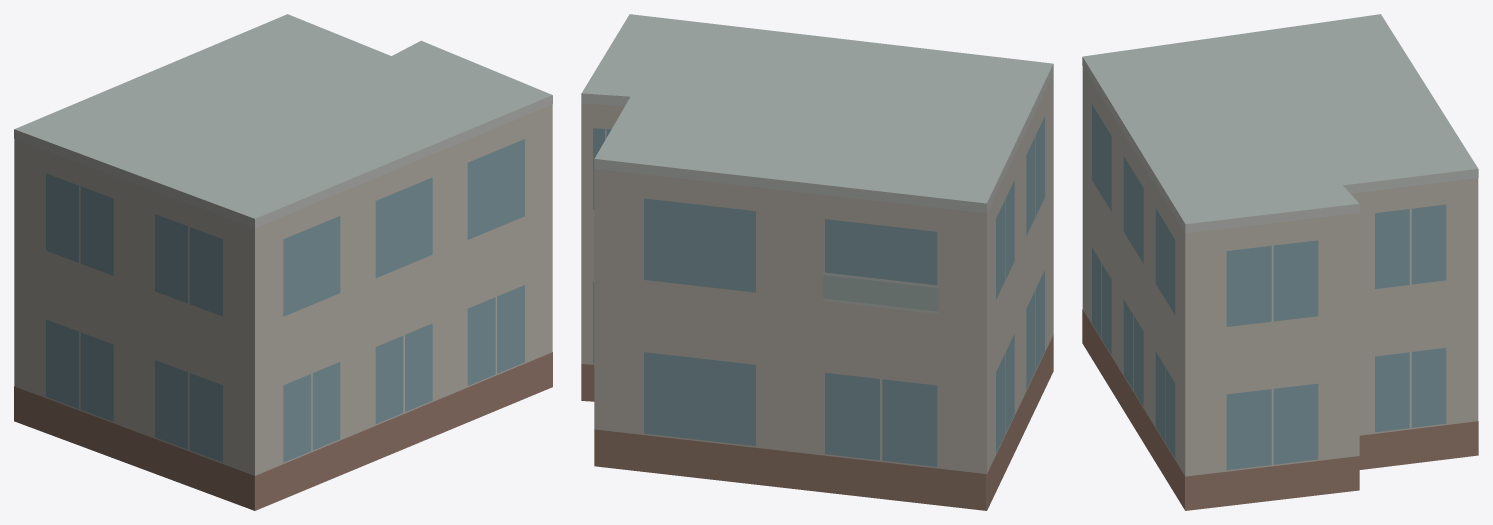
The model's file is survey-upis-32920126.glb.
The picture shows the model from 3 angles, left to right: view 1: azimuth 30°, elevation 25°; view 2: azimuth 150°, elevation 25°; view 3: azimuth 270°, elevation 25°; orthographic projection. The views are drawn at different scales.
Visible parts, largest first — view 1: survey-upis-32920126.tmp; view 2: survey-upis-32920126.tmp; view 3: survey-upis-32920126.tmp.
Part boxes in pixels (left/top/right/bottom): survey-upis-32920126.tmp: left=14, top=14, right=552, bottom=510; survey-upis-32920126.tmp: left=581, top=14, right=1053, bottom=510; survey-upis-32920126.tmp: left=1082, top=14, right=1478, bottom=510.
Bounding box in the file's own units: 11.97 × 7.6 × 9.53.
